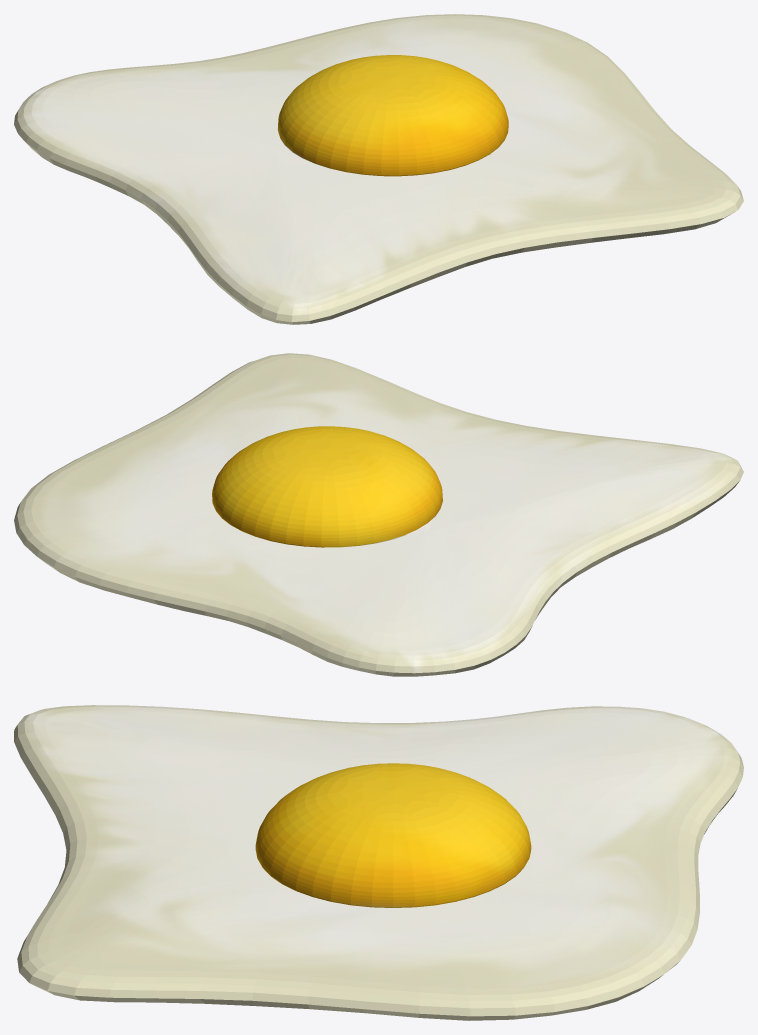
Rendered from egg_fried.obj.
3 renders of one model, top to bottom at view 1: azimuth 30°, elevation 25°; view 2: azimuth 150°, elevation 25°; view 3: azimuth 270°, elevation 25°, orthographic. The views are drawn at different scales.
Visible parts, largest first — view 1: Plane; view 2: Plane; view 3: Plane.
Part boxes in pixels (box(x1,y1,x2,y2)): Plane: box(14, 14, 743, 324); Plane: box(14, 353, 743, 676); Plane: box(14, 705, 743, 1020).
Bounding box in the file's own units: 1.86 × 0.309 × 1.88.
Materials: 1 (1 with a texture image).
